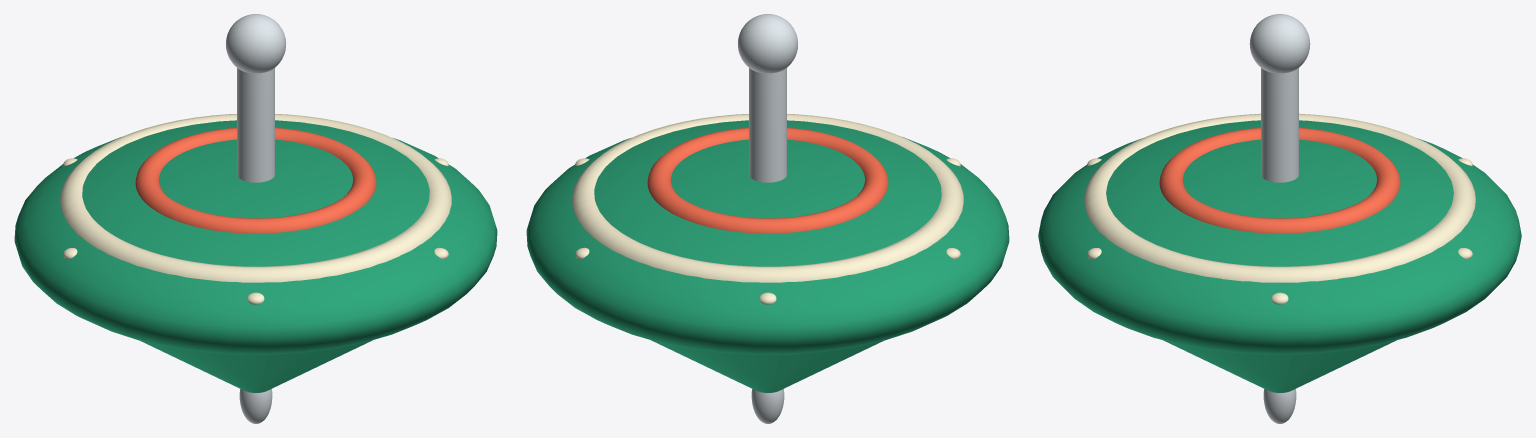
Rendered from motion.glb.
3 renders of one model, left to right at view 1: azimuth 30°, elevation 25°; view 2: azimuth 150°, elevation 25°; view 3: azimuth 270°, elevation 25°, orthographic.
Parts seen in each view (by area): view 1: Top crown, Cream outer band, Coral band, Tapered body, Top axle, Top handle, Top tip; view 2: Top crown, Cream outer band, Coral band, Tapered body, Top axle, Top handle, Top tip; view 3: Top crown, Cream outer band, Coral band, Tapered body, Top axle, Top handle, Top tip.
Boxes of the visible parts, bbox=[...] form: Top crown: bbox=[14, 120, 497, 354]; Cream outer band: bbox=[60, 114, 451, 282]; Coral band: bbox=[135, 127, 376, 233]; Tapered body: bbox=[140, 340, 372, 392]; Top axle: bbox=[237, 68, 274, 182]; Top handle: bbox=[226, 14, 286, 73]; Top tip: bbox=[239, 389, 272, 423]; Top crown: bbox=[526, 120, 1009, 354]; Cream outer band: bbox=[572, 114, 963, 282]; Coral band: bbox=[647, 127, 888, 233]; Tapered body: bbox=[651, 340, 883, 392]; Top axle: bbox=[749, 68, 786, 182]; Top handle: bbox=[737, 14, 797, 73]; Top tip: bbox=[751, 389, 784, 423]; Top crown: bbox=[1038, 120, 1521, 354]; Cream outer band: bbox=[1084, 113, 1475, 282]; Coral band: bbox=[1159, 127, 1400, 233]; Tapered body: bbox=[1163, 340, 1396, 392]; Top axle: bbox=[1261, 68, 1298, 182]; Top handle: bbox=[1249, 14, 1310, 73]; Top tip: bbox=[1263, 389, 1296, 423].
Size of the model in its own units: 2.4 by 2.22 by 2.4.
